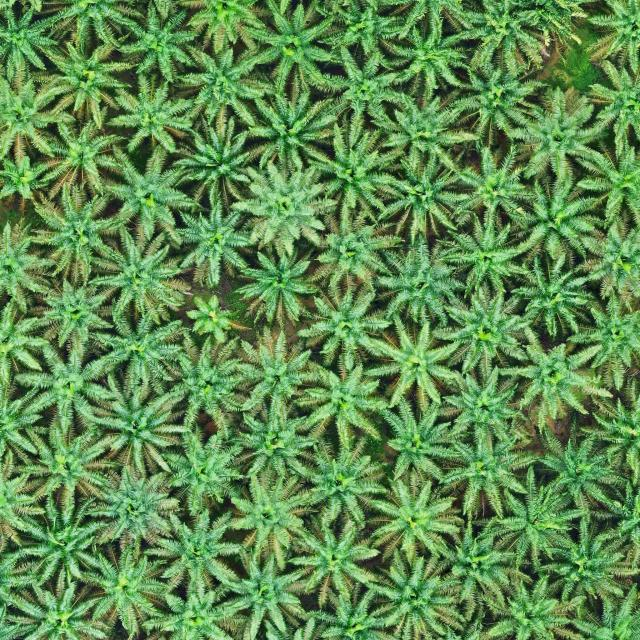Tree: (505, 81, 618, 186), (511, 321, 620, 426), (87, 226, 192, 335), (80, 374, 186, 481), (436, 50, 549, 147), (66, 537, 175, 636), (8, 418, 124, 511), (231, 160, 343, 256), (487, 464, 588, 570), (428, 279, 532, 380), (101, 138, 202, 242), (303, 121, 409, 220), (296, 428, 393, 533), (90, 296, 190, 397), (31, 34, 133, 132), (534, 512, 640, 606), (369, 223, 467, 324), (0, 495, 101, 593), (429, 510, 526, 612), (217, 466, 313, 569), (512, 165, 611, 264), (372, 149, 474, 245), (235, 0, 338, 95), (304, 199, 406, 294), (312, 43, 417, 134), (14, 338, 120, 428), (432, 208, 539, 297), (377, 87, 482, 177), (207, 546, 307, 640), (85, 462, 188, 553), (436, 425, 534, 520), (234, 320, 324, 423), (361, 315, 458, 410), (364, 473, 464, 565), (26, 180, 117, 281), (157, 421, 252, 517), (163, 116, 260, 210), (294, 277, 394, 368), (296, 357, 392, 451), (29, 116, 131, 202), (174, 39, 272, 128), (447, 140, 539, 234), (151, 506, 247, 596), (239, 87, 336, 176), (163, 333, 250, 432), (506, 248, 598, 340), (0, 61, 79, 167), (233, 395, 326, 484), (227, 240, 320, 328), (21, 268, 117, 352), (437, 358, 528, 446), (287, 513, 381, 598), (170, 194, 252, 290), (364, 551, 452, 640), (534, 422, 620, 512), (565, 291, 640, 392), (378, 15, 467, 99), (456, 0, 556, 74), (482, 573, 591, 640), (107, 74, 193, 158), (117, 2, 202, 83), (140, 574, 242, 640), (379, 399, 456, 484), (575, 380, 640, 478), (572, 137, 640, 230), (5, 575, 98, 640), (575, 219, 640, 306), (307, 0, 409, 55), (584, 56, 640, 149), (180, 293, 240, 344), (0, 154, 53, 202)
